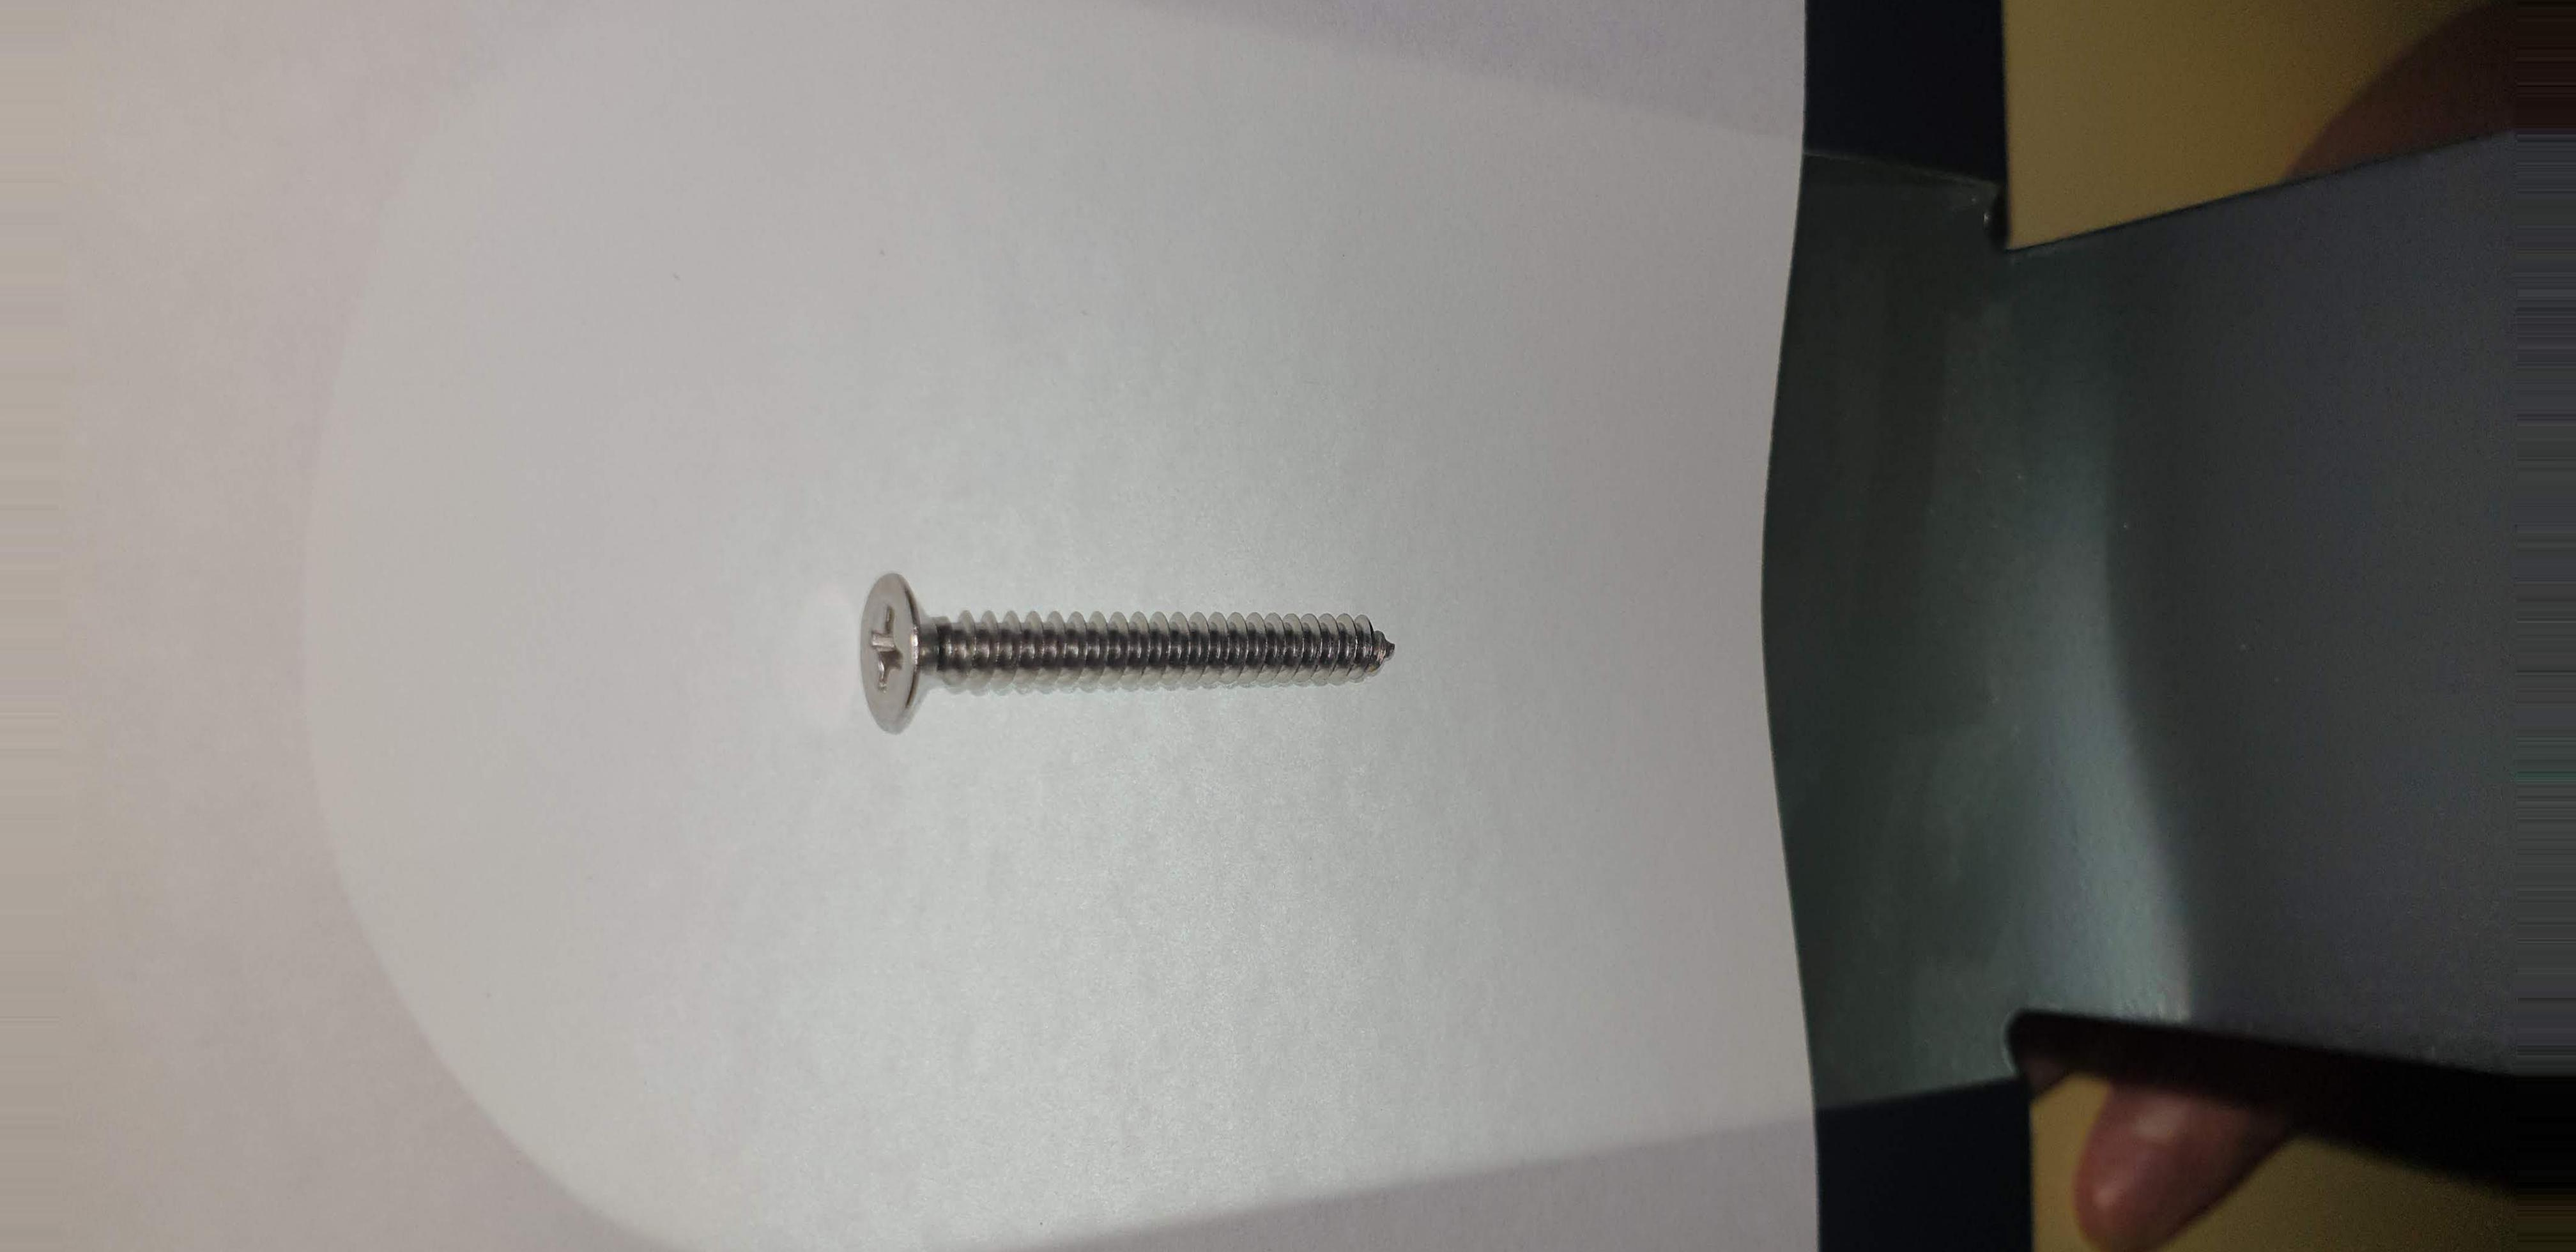fastener: (800, 529, 1492, 771)
